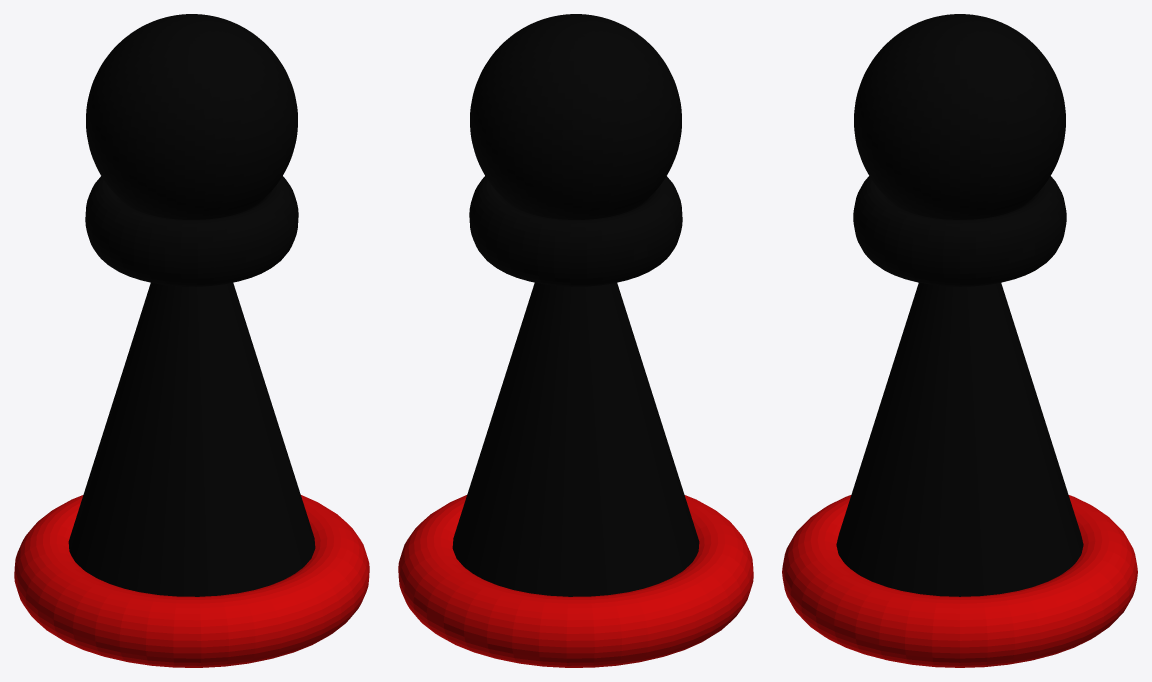
File: BlackPawn.obj
The picture shows the model from 3 angles, left to right: view 1: azimuth 30°, elevation 25°; view 2: azimuth 150°, elevation 25°; view 3: azimuth 270°, elevation 25°; orthographic projection.
Visible parts, largest first — view 1: Cone, Sphere, Torus, Torus.001; view 2: Cone, Sphere, Torus, Torus.001; view 3: Cone, Sphere, Torus, Torus.001.
Part boxes in pixels (x1,y1,x2,y2): Cone: [68, 282, 315, 596]; Sphere: [86, 14, 297, 219]; Torus: [14, 495, 369, 667]; Torus.001: [85, 176, 298, 286]; Cone: [452, 282, 699, 596]; Sphere: [470, 14, 681, 219]; Torus: [398, 495, 753, 667]; Torus.001: [469, 176, 682, 286]; Cone: [836, 282, 1083, 596]; Sphere: [854, 14, 1065, 219]; Torus: [782, 495, 1137, 667]; Torus.001: [853, 176, 1066, 286].
Bounding box in the file's own units: 0.5 × 0.9 × 0.5.
